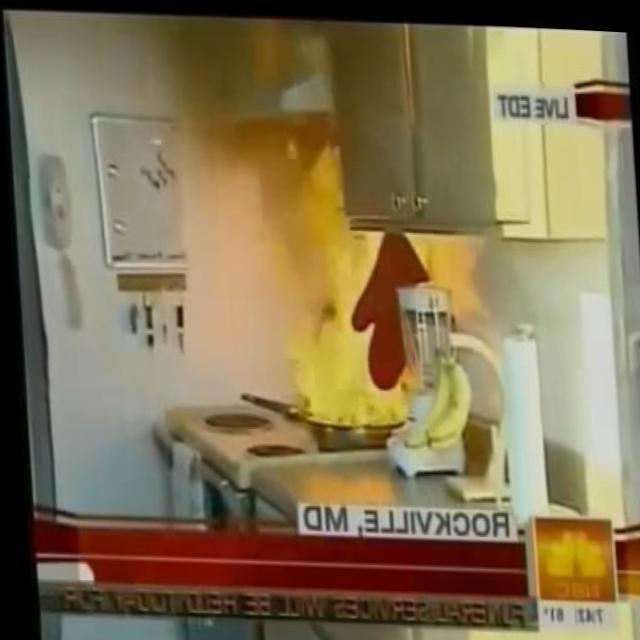fire: (277, 189, 412, 427)
